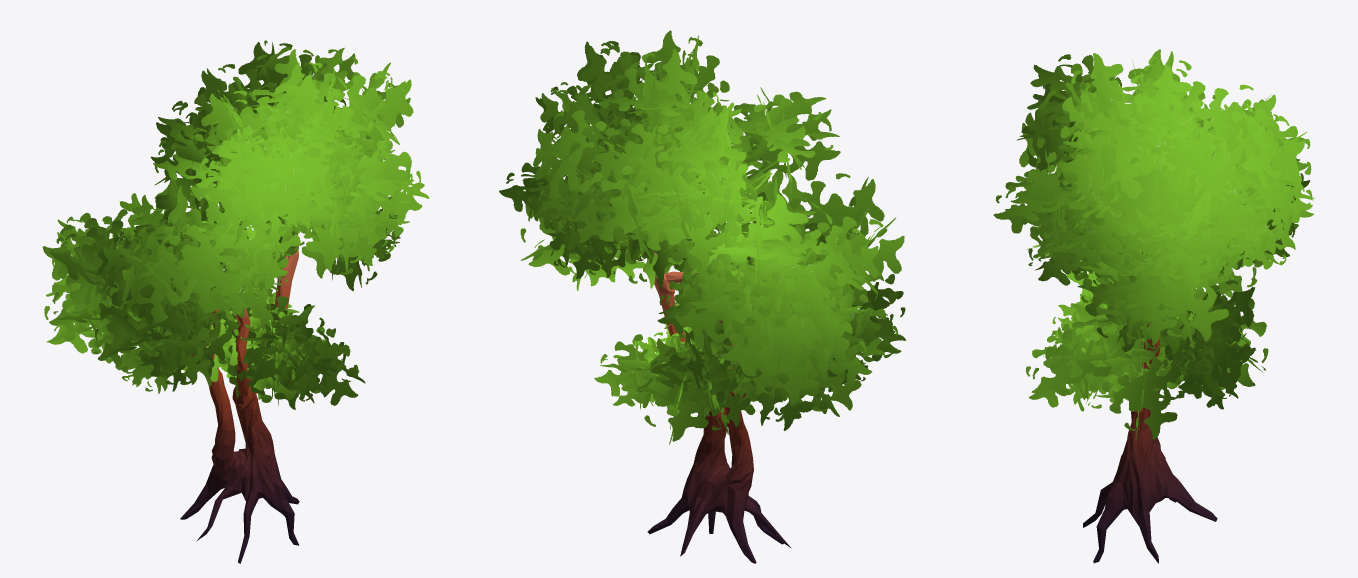
The model's file is 03_Simple_Tree_10_5_5k_002.fbx.
The picture shows the model from 3 angles, left to right: view 1: azimuth 30°, elevation 25°; view 2: azimuth 150°, elevation 25°; view 3: azimuth 270°, elevation 25°; orthographic projection. The views are drawn at different scales.
Parts seen in each view (by area): view 1: 03 Simple Tree 10_5_5k.002; view 2: 03 Simple Tree 10_5_5k.002; view 3: 03 Simple Tree 10_5_5k.002.
Part boxes in pixels (box(x1,y1,x2,y2)): 03 Simple Tree 10_5_5k.002: box(42, 40, 429, 563); 03 Simple Tree 10_5_5k.002: box(499, 30, 905, 563); 03 Simple Tree 10_5_5k.002: box(993, 49, 1314, 563).
Size of the model in its own units: 1766 by 2140 by 1383.
